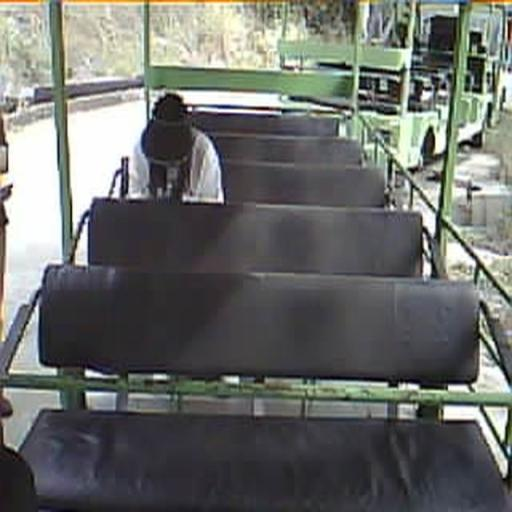persona: (128, 90, 225, 204)
